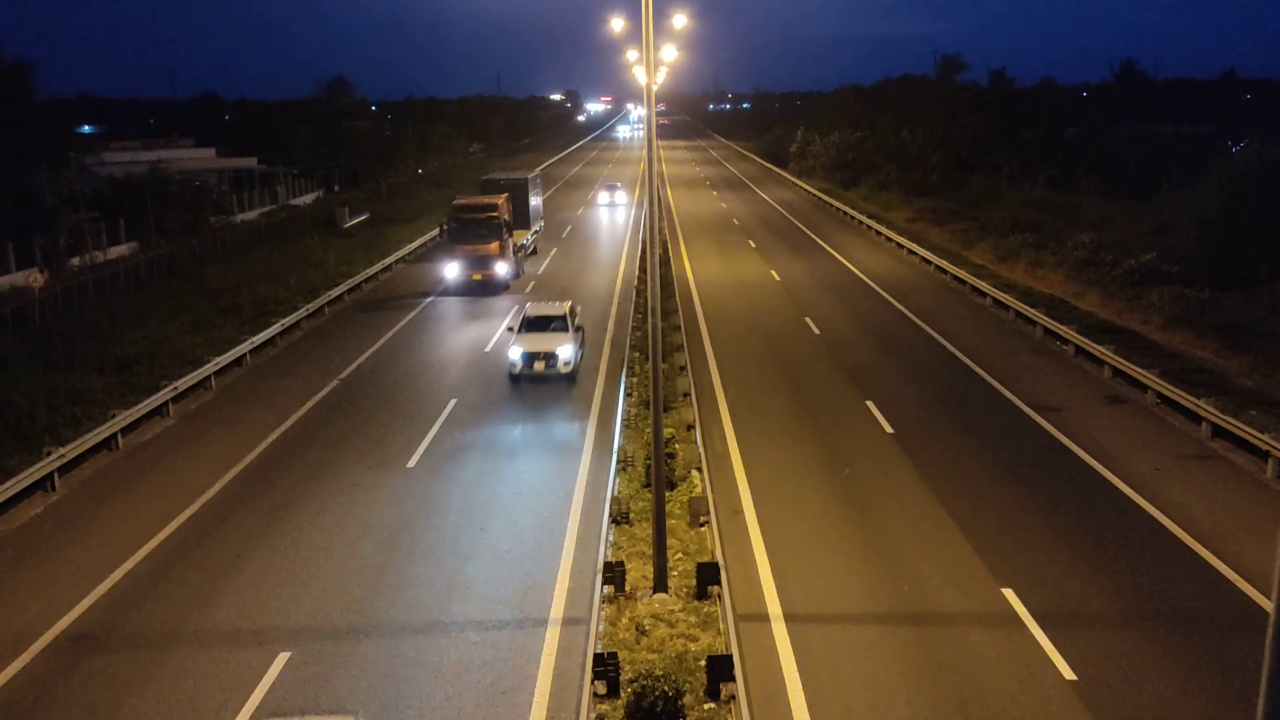car: (501, 291, 587, 390)
truck: (438, 166, 547, 296)
